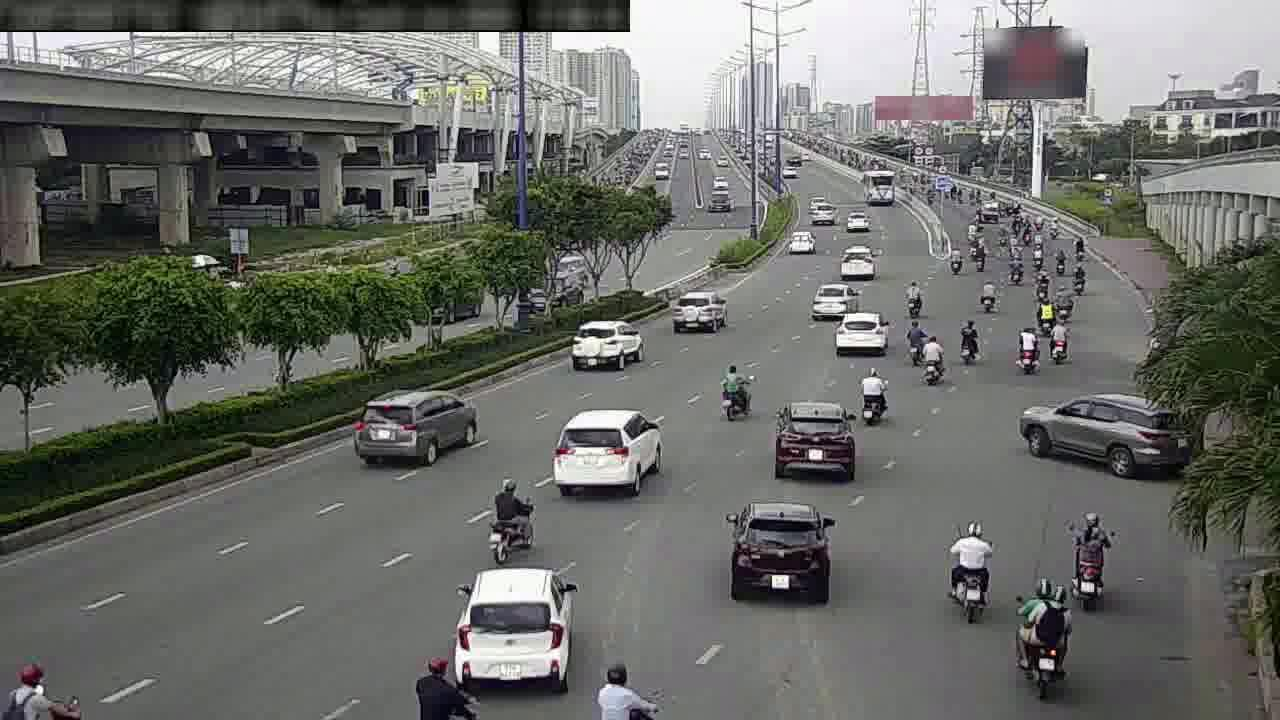container: (452, 559, 579, 690), (1023, 385, 1188, 482), (724, 498, 842, 604), (552, 397, 657, 491), (355, 382, 475, 464), (768, 402, 863, 483), (560, 309, 649, 375), (832, 302, 892, 361), (805, 276, 858, 325), (671, 290, 730, 333), (831, 241, 878, 281)
motorbike: (1010, 584, 1073, 683), (942, 515, 1000, 614), (475, 471, 537, 555), (1066, 511, 1118, 598), (710, 359, 759, 426), (7, 662, 59, 720), (852, 366, 892, 423), (917, 336, 950, 389), (950, 316, 983, 369), (1044, 318, 1077, 366), (1014, 325, 1044, 376), (899, 320, 928, 367), (898, 282, 928, 323), (1029, 293, 1056, 332), (978, 279, 1001, 315)
